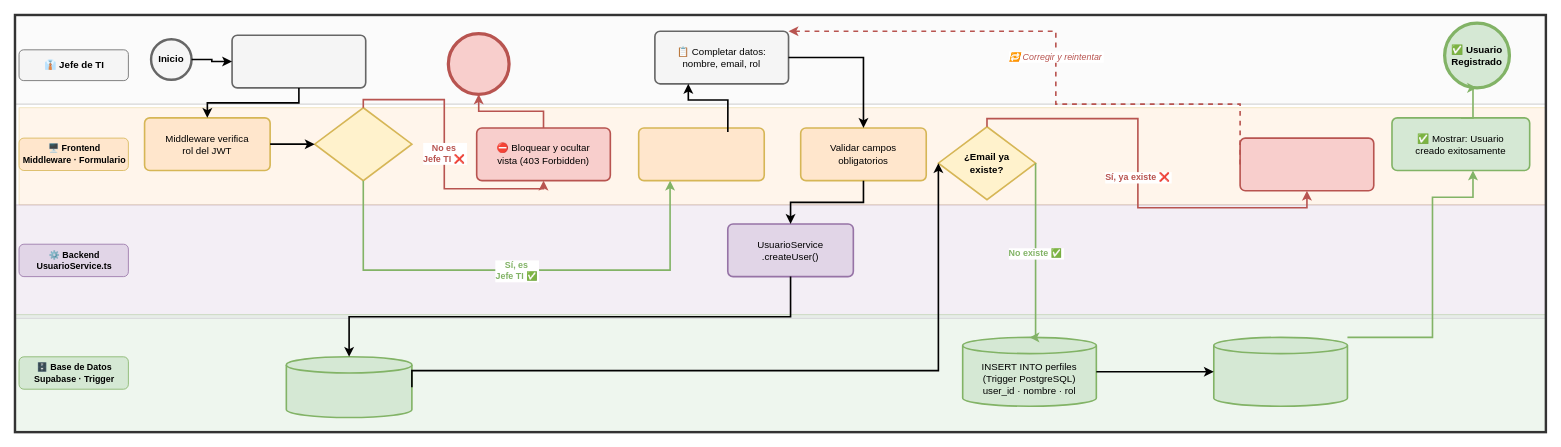
The diagram is 1561 pixels wide and 447 high, and some of its shapes have lost their labels. Each missing label, with the centre of its shape:
"Acceder a /admin/crear-usuario" goes at point 298,61.
"Acceso Denegado" goes at point 478,64.
"admin.createUser() Supabase Auth" goes at point 348,387.
"Enviar email de bienvenida (instrucciones acceso)" goes at point 1280,371.
"Mostrar formulario de registro" goes at point 701,154.
"¿Rol es Jefe TI?" goes at point 362,144.
"⚠️ Mostrar alerta: Email ya registrado" goes at point 1306,164.
